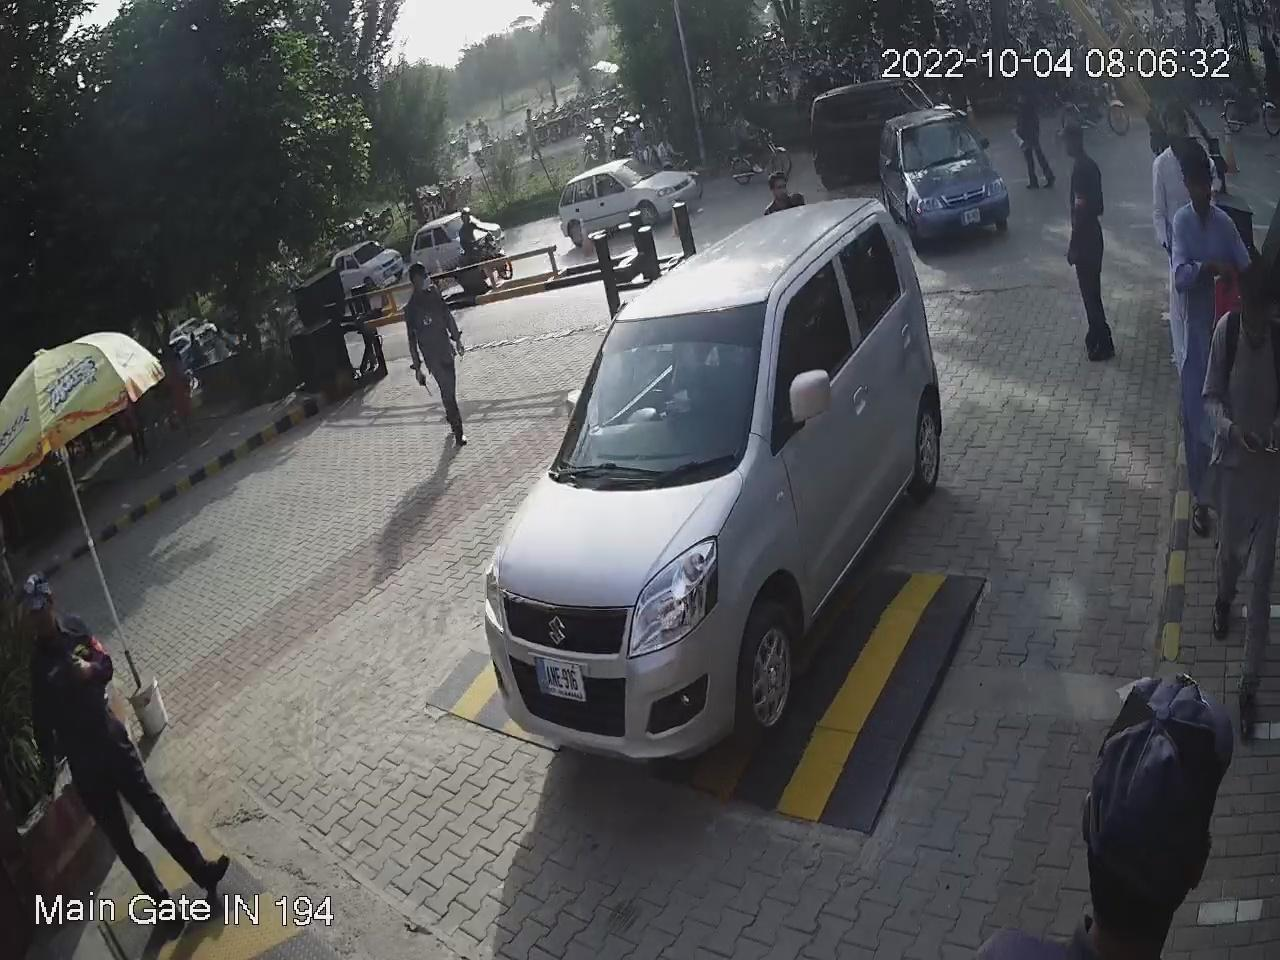windshield: (550, 282, 771, 482)
